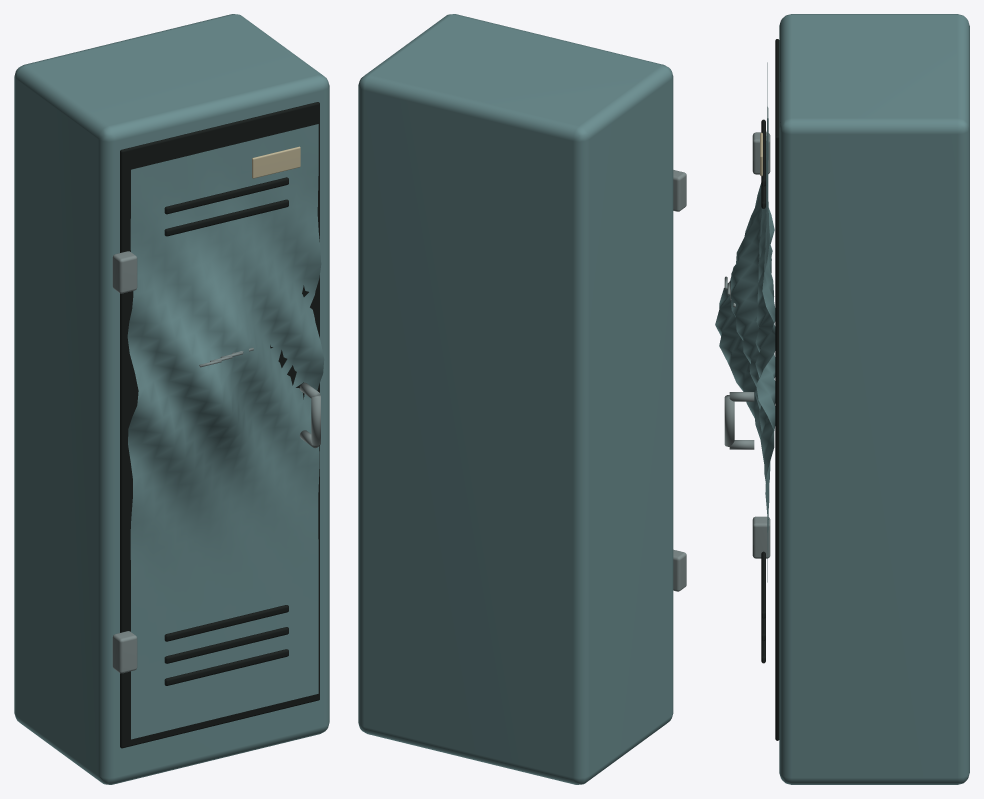
Rendered from staff-locker.glb.
3 renders of one model, left to right at view 1: azimuth 30°, elevation 25°; view 2: azimuth 150°, elevation 25°; view 3: azimuth 270°, elevation 25°, orthographic.
Visible parts, largest first — view 1: Dented blue enamel, Empty black lining, Oxidised steel, Cracked yellowed resin; view 2: Dented blue enamel, Oxidised steel; view 3: Dented blue enamel, Empty black lining, Oxidised steel.
Boxes of the visible parts, bbox=[...] form: Dented blue enamel: bbox=[14, 14, 329, 784]; Empty black lining: bbox=[120, 102, 319, 748]; Oxidised steel: bbox=[112, 251, 320, 673]; Cracked yellowed resin: bbox=[252, 146, 300, 178]; Dented blue enamel: bbox=[358, 14, 673, 784]; Oxidised steel: bbox=[673, 170, 686, 591]; Dented blue enamel: bbox=[715, 14, 969, 784]; Empty black lining: bbox=[761, 39, 779, 740]; Oxidised steel: bbox=[724, 132, 770, 558].
Bounding box in the file's own units: 0.76 × 2.08 × 0.7216.
